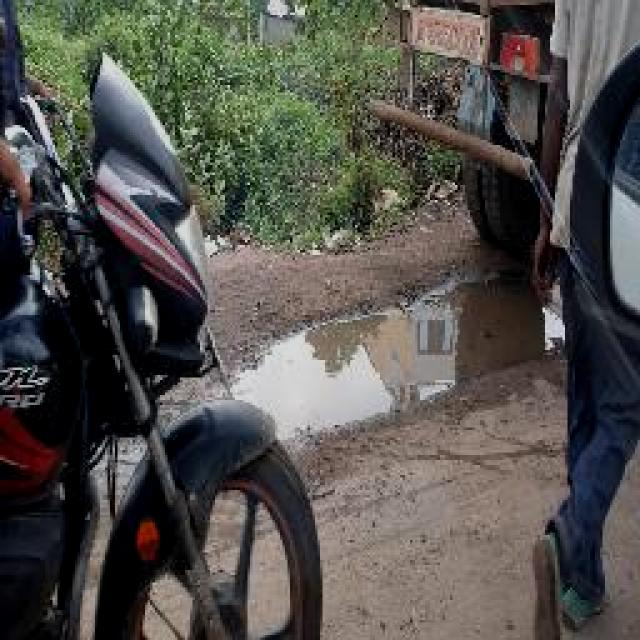stagnation: (244, 289, 556, 429)
